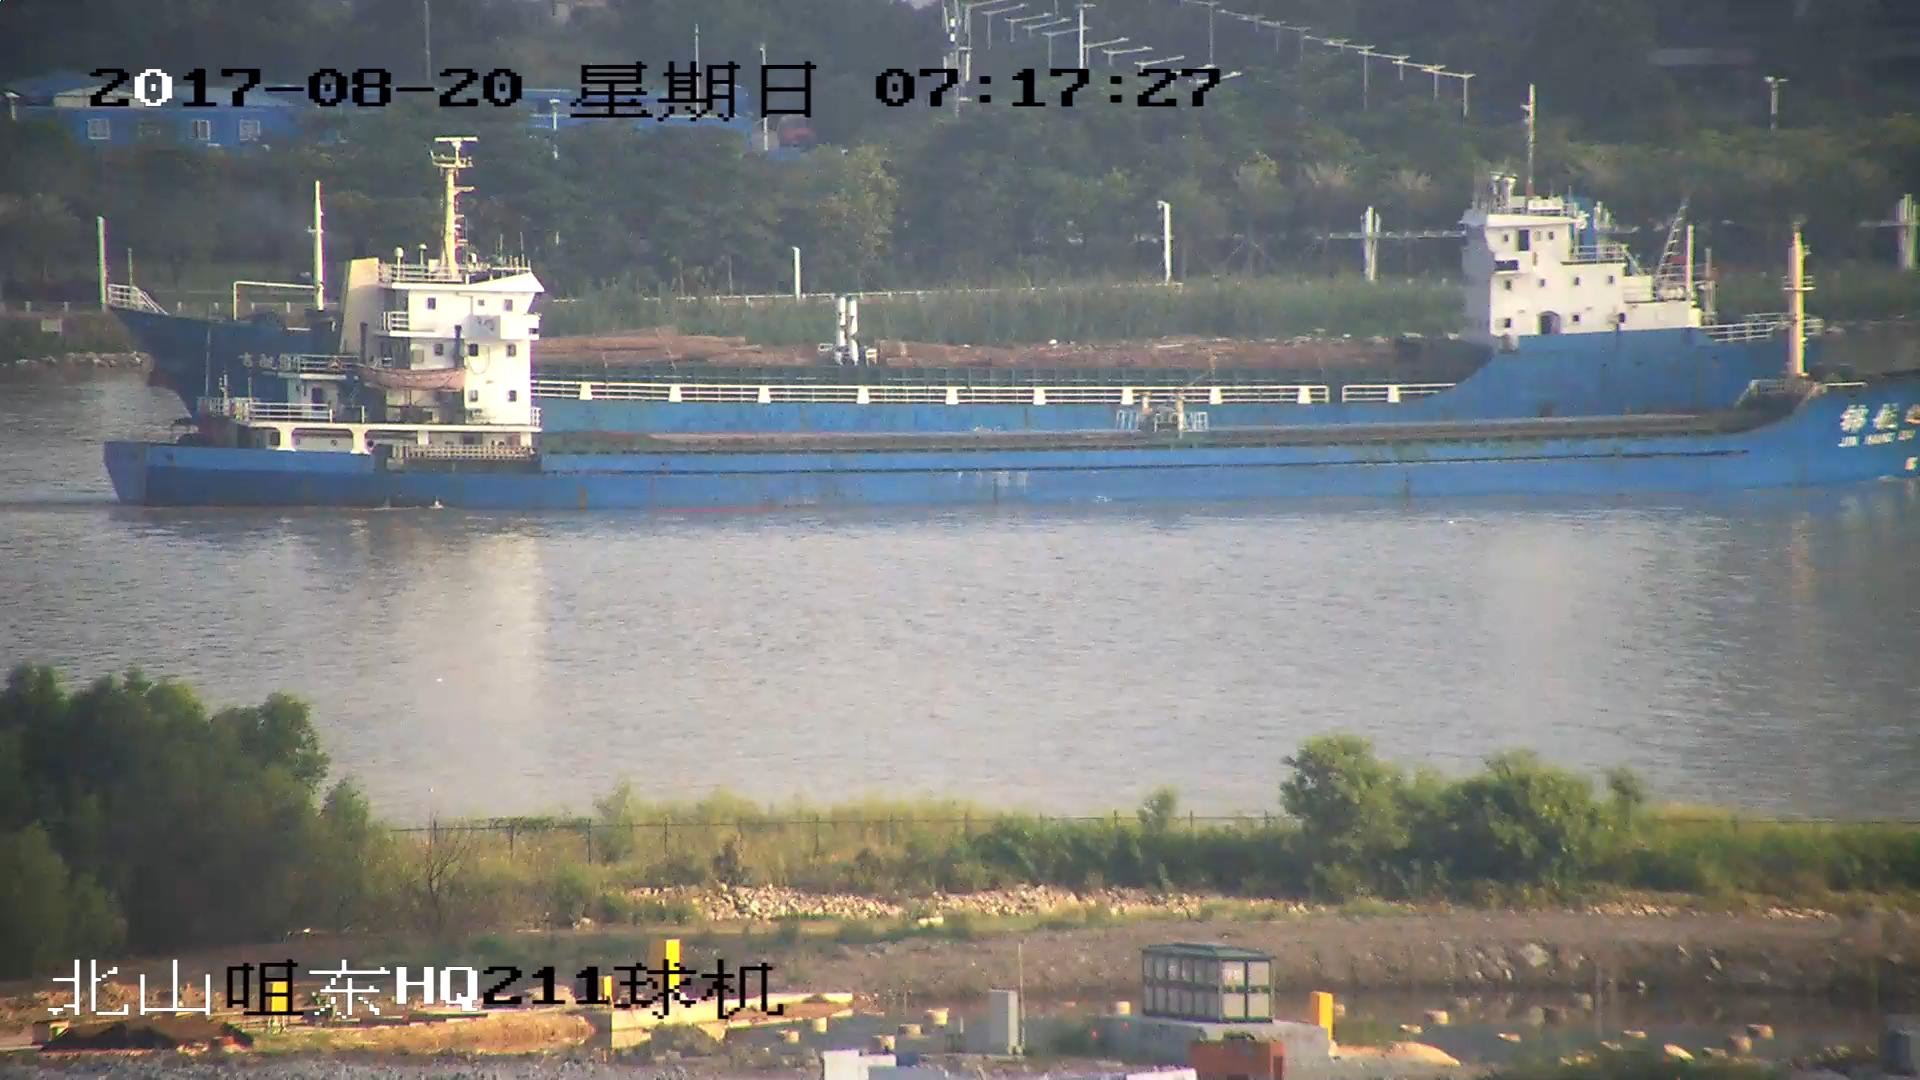general cargo ship: (103, 146, 1920, 507)
